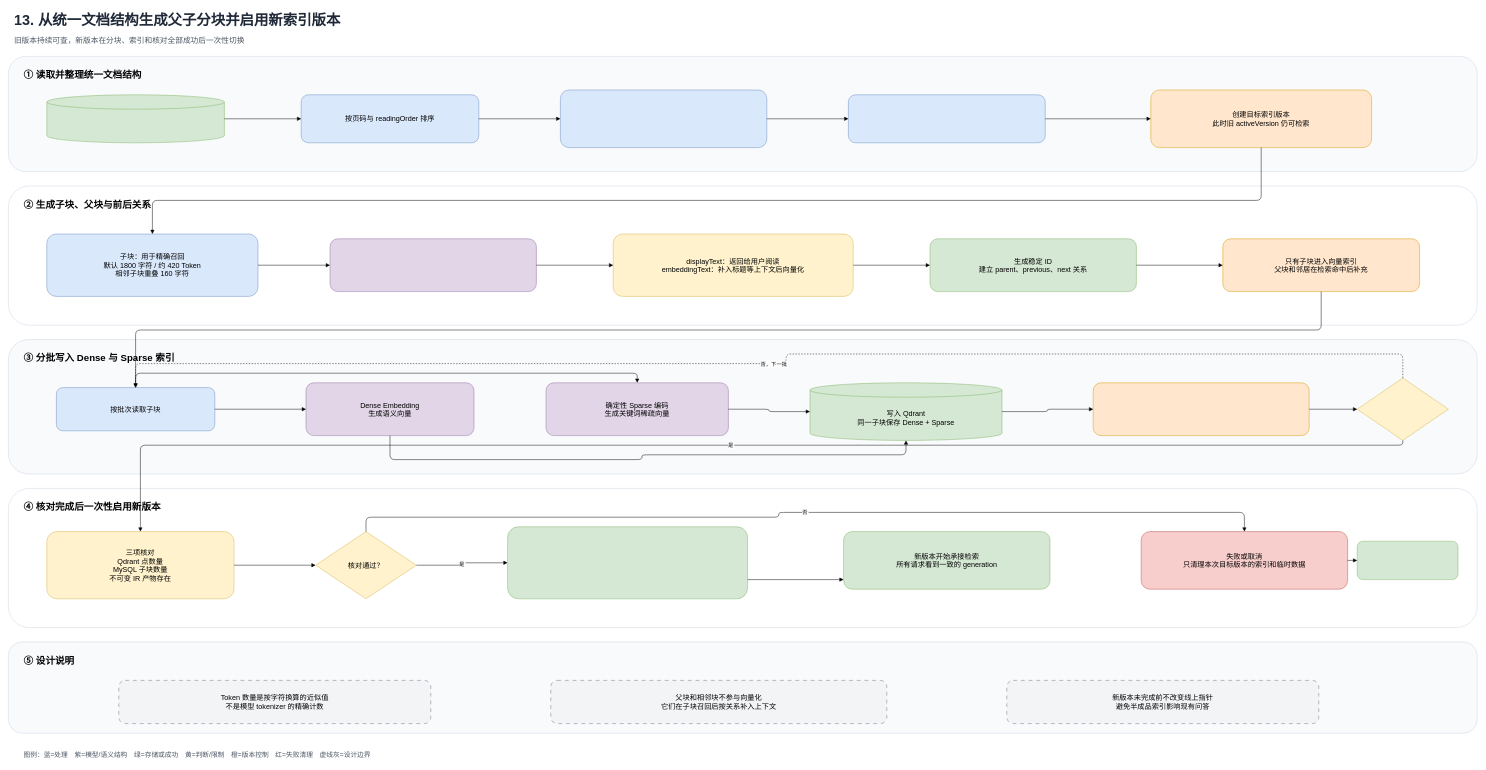
The diagram is 1486 pixels wide and 770 high, and some of its shapes have lost their labels. The centre of each missing label's shape, as x and y in pixels:
保留标题上下文 表格、代码、公式、图注分别处理: the point at 663,119
全部批次完成？: the point at 1402,409
同一个 MySQL 事务更新 Version=READY · activeVersion 知识库 generation · Task=COMPLETED: the point at 627,562
旧 activeVersion 保持可查: the point at 1407,560
每批确认成功后保存进度 失败后从最后确认位置继续: the point at 1201,409
清理空白与边界 保留来源位置和结构信息: the point at 946,118
父块：保留完整章节语义 默认 6000 字符 / 约 1400 Token: the point at 433,265
读取不可变 Document IR 产物: the point at 135,118
